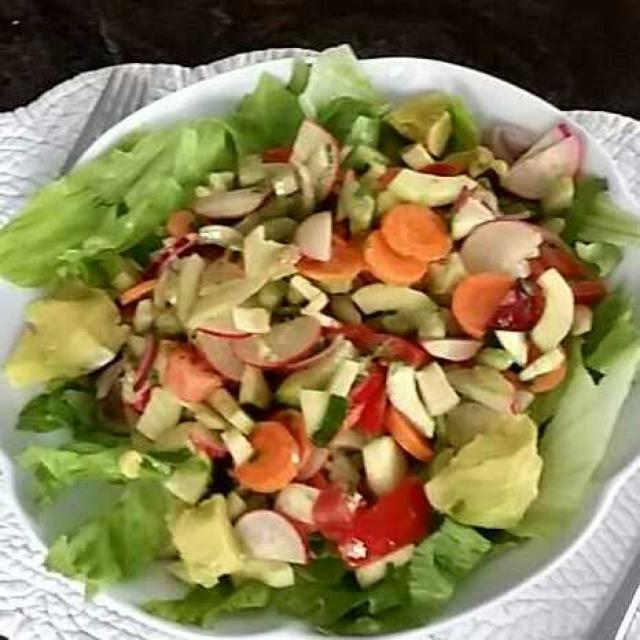mixed-vegetables: (128, 126, 587, 594)
salad: (12, 69, 604, 615)
